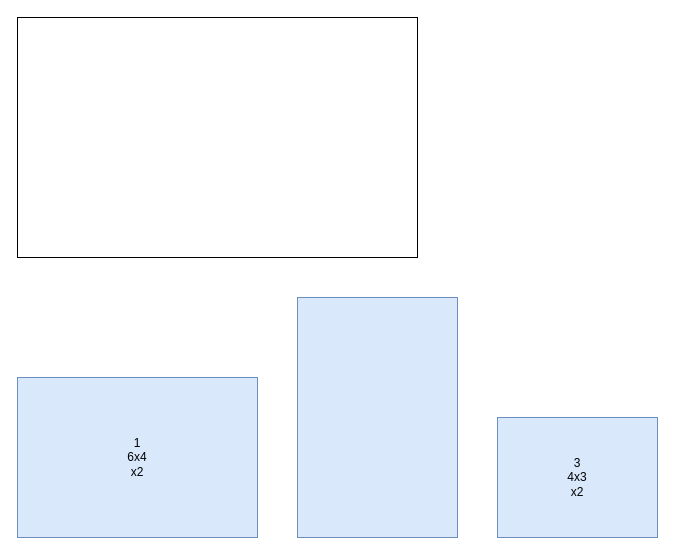
Image size: 675x555. Some labels were removed from this diagram. The shapes that lost their labels are listed below. From the top down, each one's centre as x and y in pixels, then its label:
At (217,137): "10x6".
At (377,417): "2 4x6 x2".
